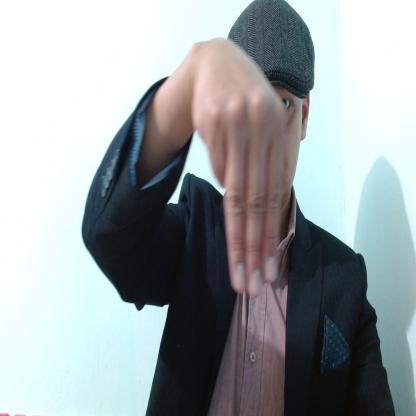M: (194, 37, 287, 296)
